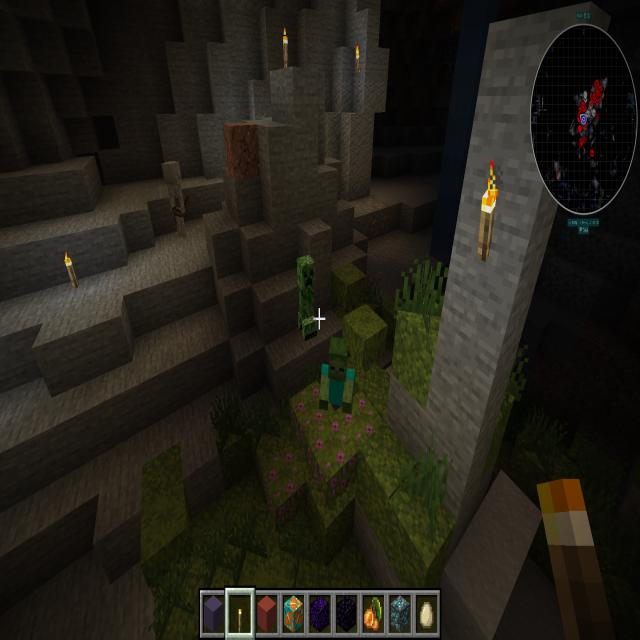Creeper: (292, 249, 322, 344)
Skeleton: (158, 155, 194, 243)
Zombie: (313, 331, 360, 423)
